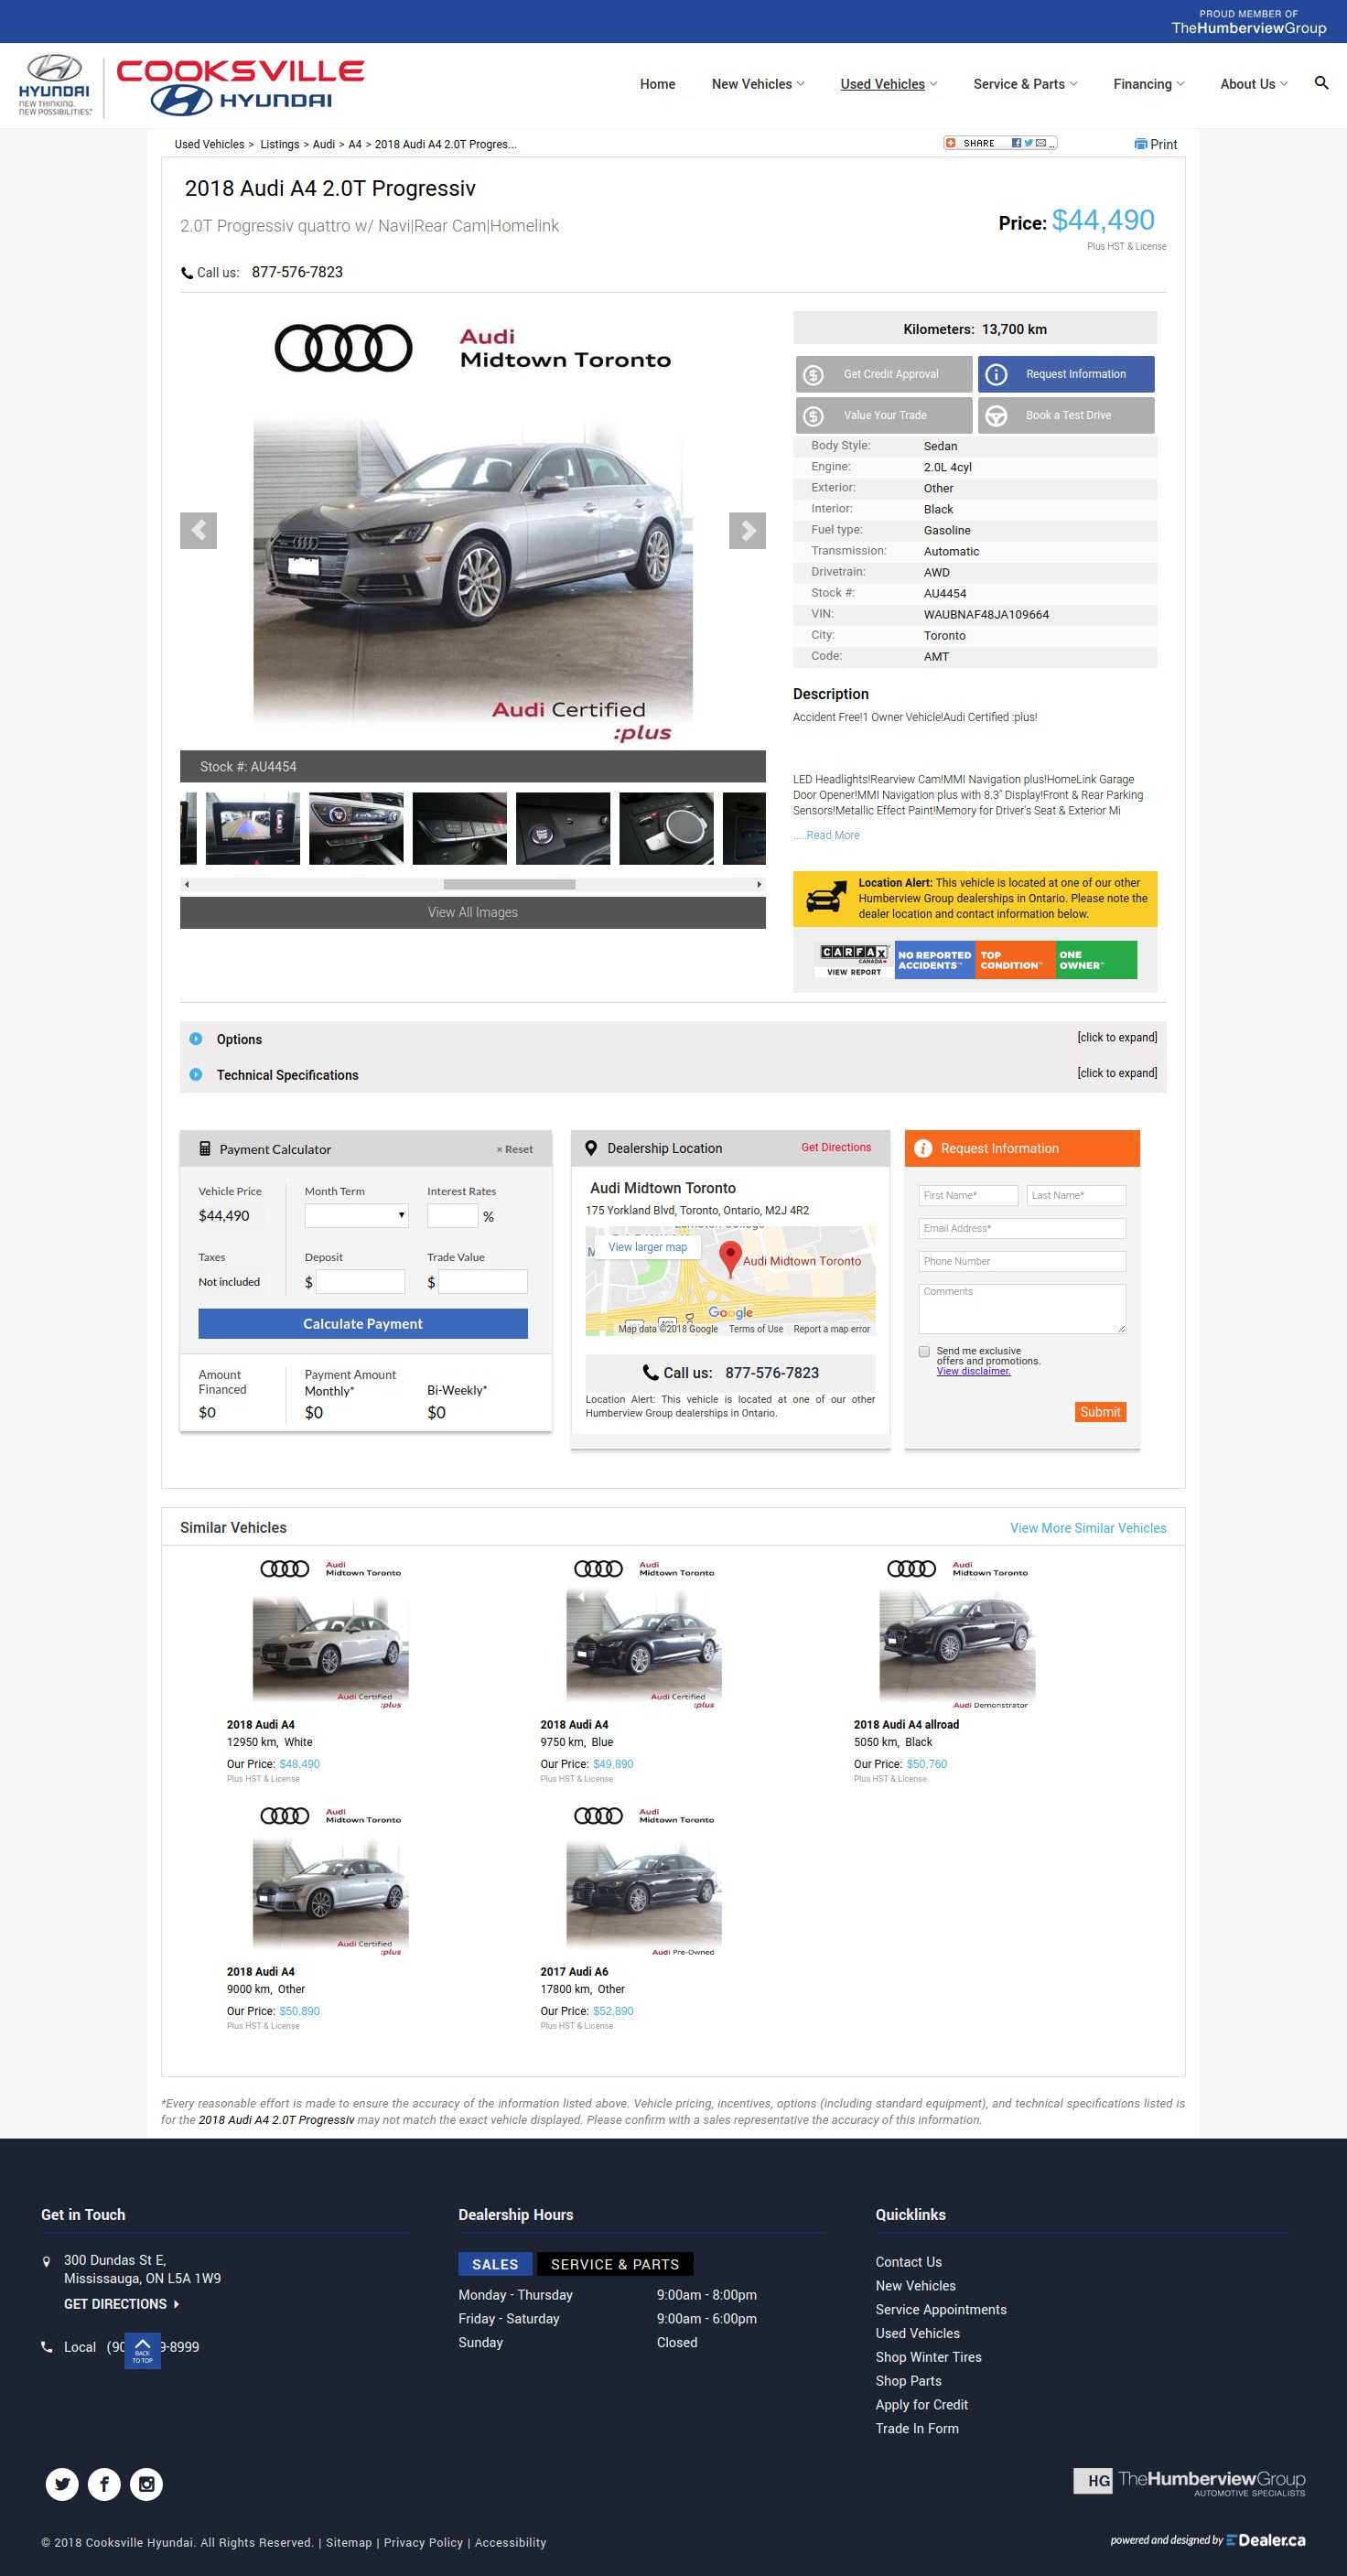car: (756, 881, 763, 889)
